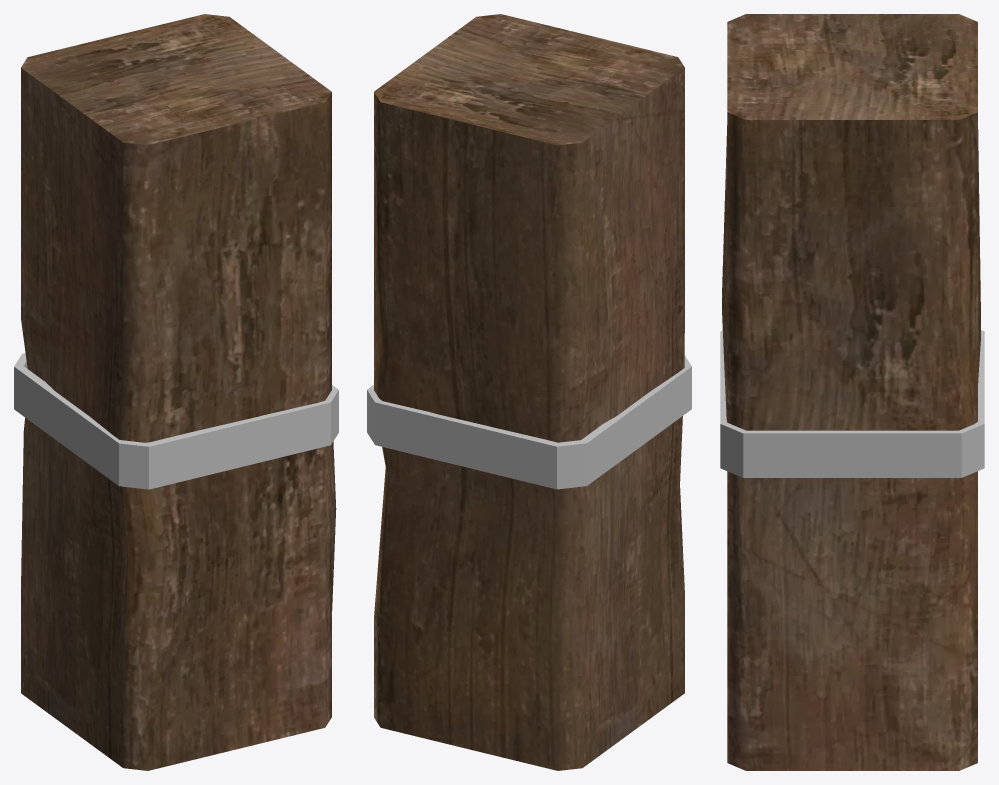
3 renders of one model, left to right at view 1: azimuth 30°, elevation 25°; view 2: azimuth 150°, elevation 25°; view 3: azimuth 270°, elevation 25°, orthographic. The views are drawn at different scales.
Parts seen in each view (by area): view 1: SM_BB_T3_Extended_Beam_Thick_Med_Vertical_LOD0; view 2: SM_BB_T3_Extended_Beam_Thick_Med_Vertical_LOD0; view 3: SM_BB_T3_Extended_Beam_Thick_Med_Vertical_LOD0.
Part boxes in pixels (x1=…): SM_BB_T3_Extended_Beam_Thick_Med_Vertical_LOD0: x1=14, y1=14, x2=338, y2=770; SM_BB_T3_Extended_Beam_Thick_Med_Vertical_LOD0: x1=367, y1=14, x2=691, y2=770; SM_BB_T3_Extended_Beam_Thick_Med_Vertical_LOD0: x1=720, y1=14, x2=984, y2=770.
Bounding box in the file's own units: 0.5477 × 1.49 × 0.5477.
